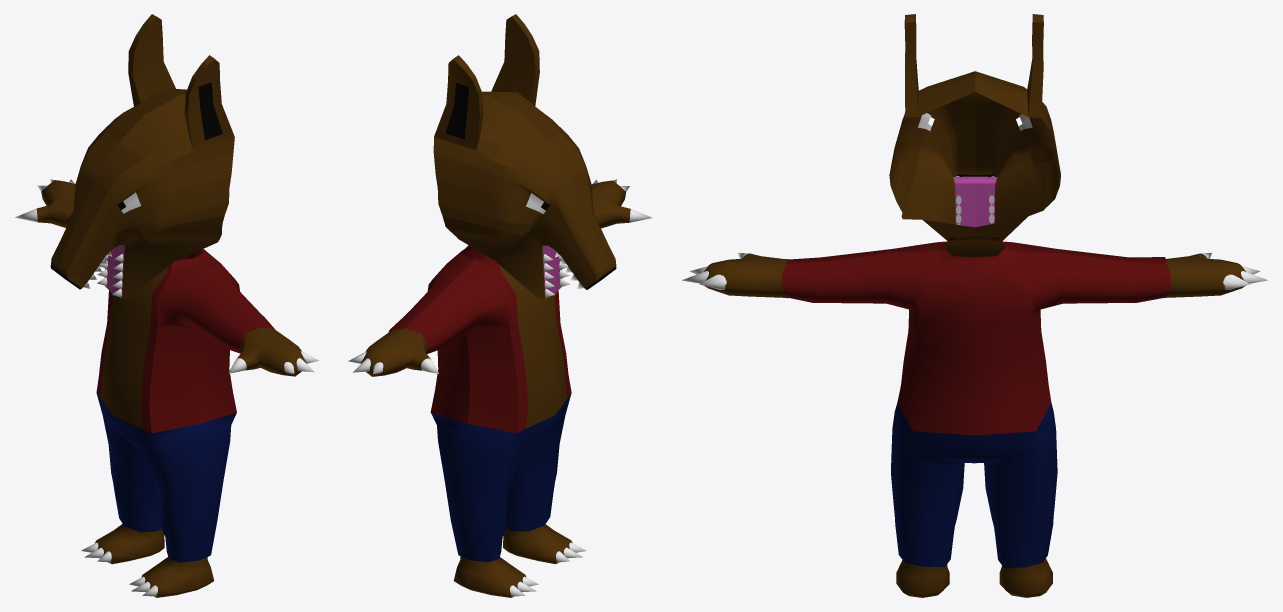
File: WolfCostume.fbx
3 renders of one model, left to right at view 1: azimuth 30°, elevation 25°; view 2: azimuth 150°, elevation 25°; view 3: azimuth 270°, elevation 25°, orthographic. The views are drawn at different scales.
Visible parts, largest first — view 1: polySurface66; view 2: polySurface66; view 3: polySurface66.
Part boxes in pixels (x1=…): polySurface66: x1=15, y1=14, x2=318, y2=597; polySurface66: x1=348, y1=14, x2=652, y2=597; polySurface66: x1=682, y1=14, x2=1267, y2=597.
Bounding box in the file's own units: 6.36 × 19.84 × 18.04.
